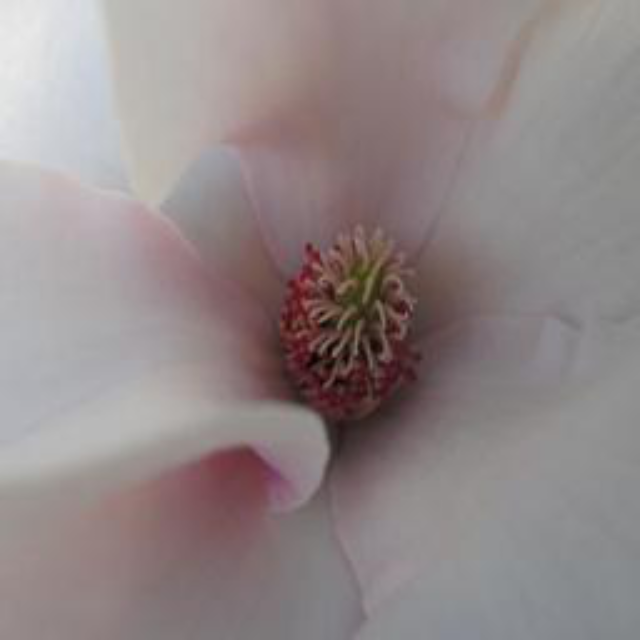magnolia: (2, 2, 634, 632)
